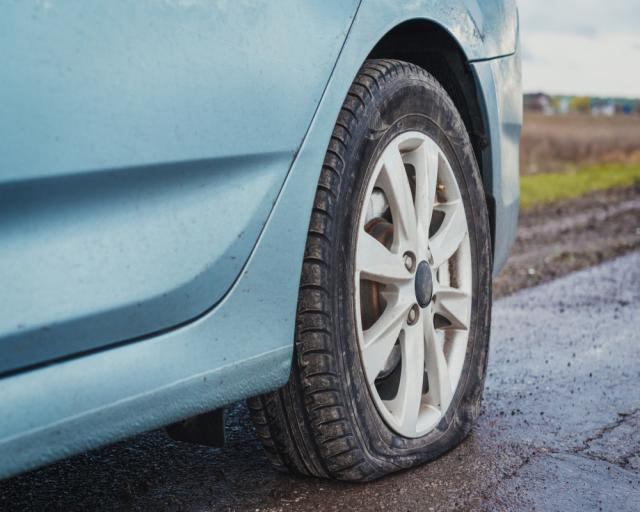tire flat: (248, 57, 492, 483)
